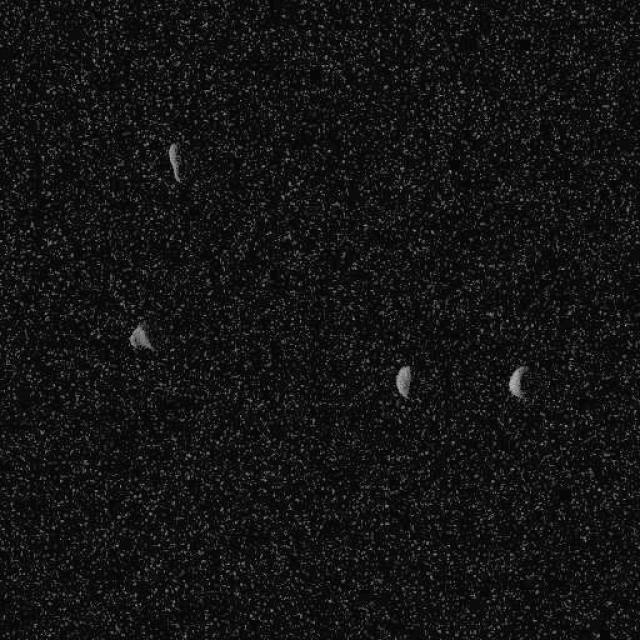D2: (128, 322, 154, 352), (166, 140, 184, 182), (508, 364, 528, 398), (394, 364, 411, 398)
